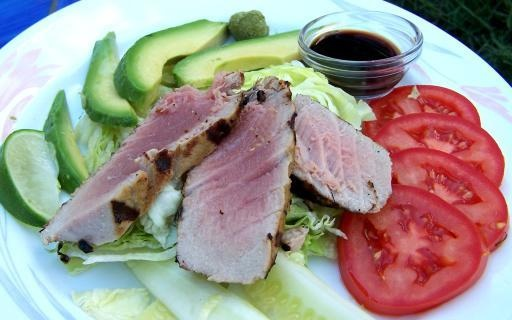background: (0, 5, 408, 159)
